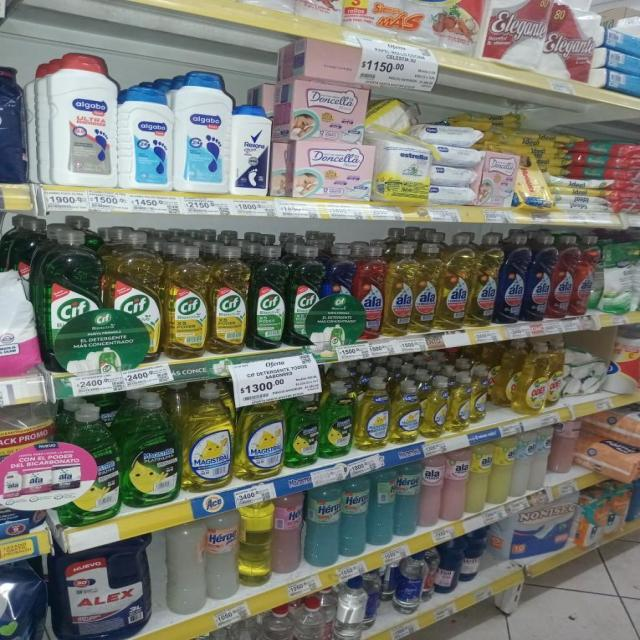ala_conc_amarillo: (440, 232, 470, 330), (386, 242, 413, 336), (471, 233, 498, 327), (414, 242, 438, 333)
ala_conc_azul: (322, 242, 356, 348), (498, 233, 526, 324), (526, 235, 552, 321)
ala_conc_rojo: (357, 244, 384, 342), (551, 234, 573, 319), (574, 235, 594, 317)
ala_crem_blanco: (533, 426, 552, 492), (514, 430, 532, 497)
ala_crem_rosado: (443, 448, 468, 520), (420, 455, 443, 529), (553, 421, 576, 475)
cif_conc_bot_amarilla: (106, 230, 162, 365), (164, 243, 208, 358), (209, 244, 248, 355)
cif_conc_botella_verde: (42, 226, 102, 372), (250, 244, 286, 350), (288, 244, 321, 346)
heroe: (205, 512, 238, 604), (305, 481, 339, 567), (240, 499, 272, 588), (273, 493, 303, 576), (340, 474, 368, 558), (369, 466, 394, 547), (395, 461, 419, 538)
magistral_con_amarillo: (184, 383, 234, 492), (237, 392, 284, 480), (356, 376, 389, 450), (391, 378, 421, 445), (424, 375, 448, 438), (450, 372, 470, 432), (471, 366, 489, 426)
magistral_con_azul: (0, 566, 32, 640)
